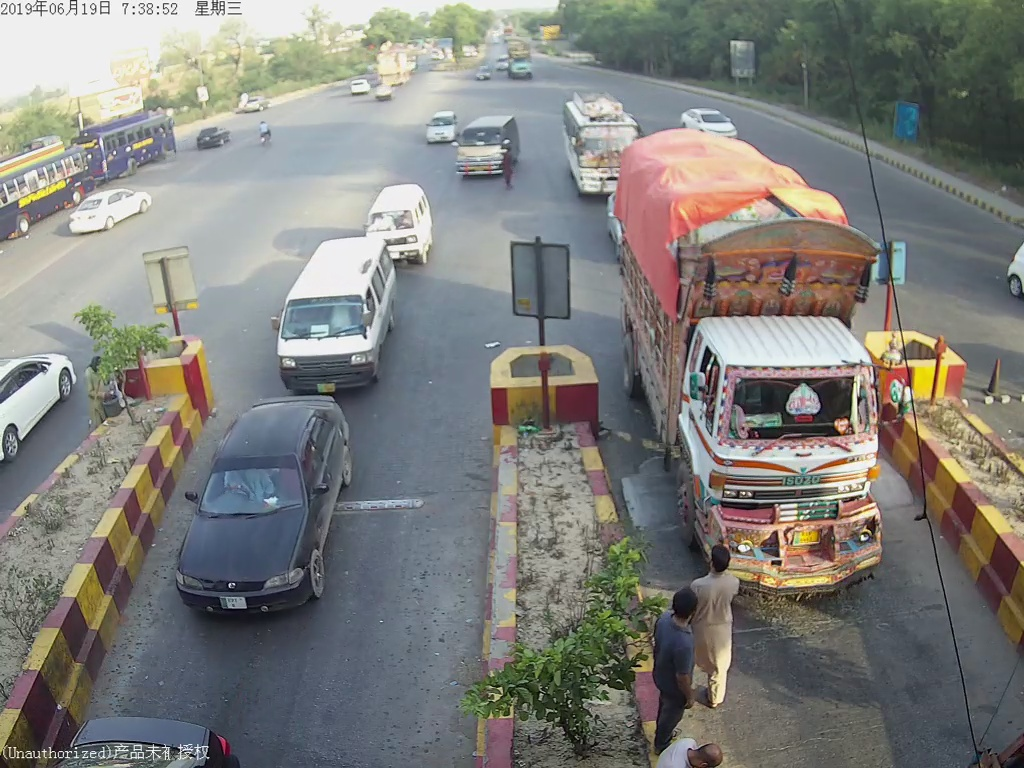Cat-1: (180, 388, 352, 619), (362, 177, 438, 266), (423, 105, 457, 145)
Cat-2: (274, 234, 395, 390), (458, 117, 526, 182)
Cat-3: (559, 91, 640, 197)
Cat-4: (622, 130, 900, 590)
